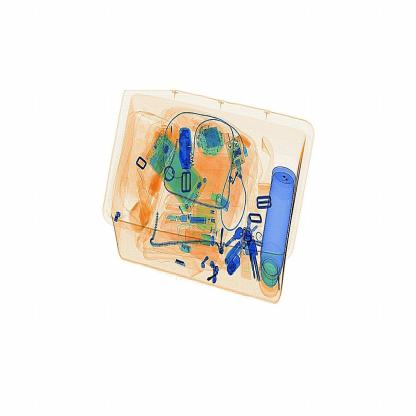scissors: (171, 118, 198, 181)
